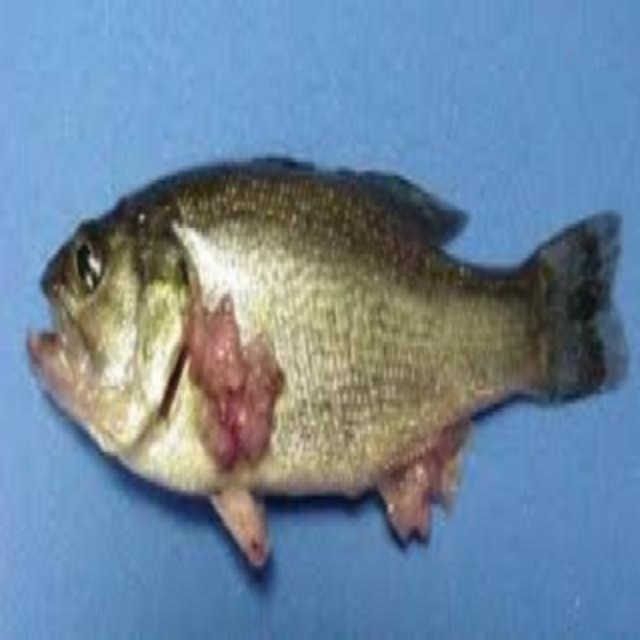EUS Disease: (27, 142, 633, 578), (129, 309, 345, 467), (368, 408, 484, 556)
